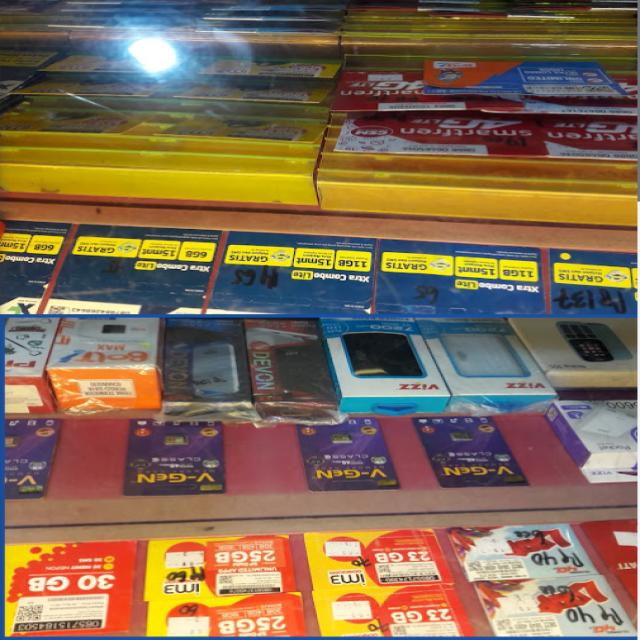V-GEN: (402, 415, 553, 489), (292, 422, 396, 492), (131, 417, 222, 495), (2, 415, 63, 493)
im3: (310, 529, 468, 636), (149, 536, 306, 636), (5, 540, 136, 632)
